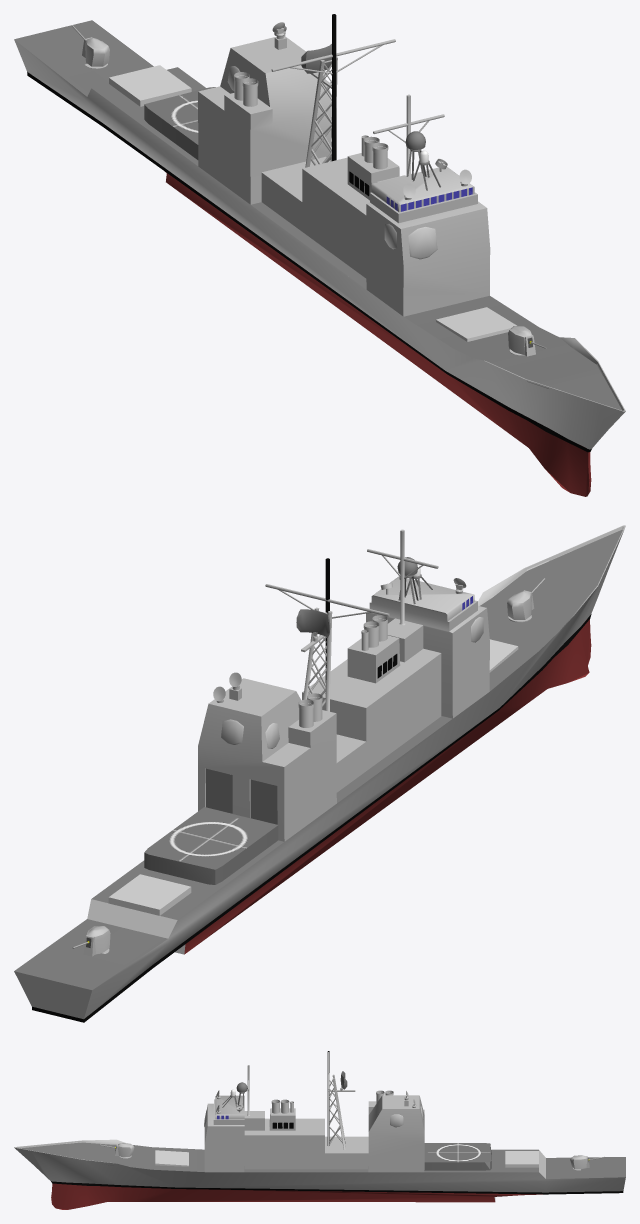
The model's file is destroyer_cg47.glb.
3 renders of one model, top to bottom at view 1: azimuth 30°, elevation 25°; view 2: azimuth 150°, elevation 25°; view 3: azimuth 270°, elevation 25°, orthographic. The views are drawn at different scales.
Visible parts, largest first — view 1: Cylinder7Cylinder; view 2: Cylinder7Cylinder; view 3: Cylinder7Cylinder.
Boxes of the visible parts, x1,y1,x2,y2 form: Cylinder7Cylinder: (14, 14, 625, 496); Cylinder7Cylinder: (14, 525, 625, 1022); Cylinder7Cylinder: (14, 1051, 625, 1209).
Size of the model in its own units: 21.46 by 49.02 by 173.
12 materials, 2 textured.
